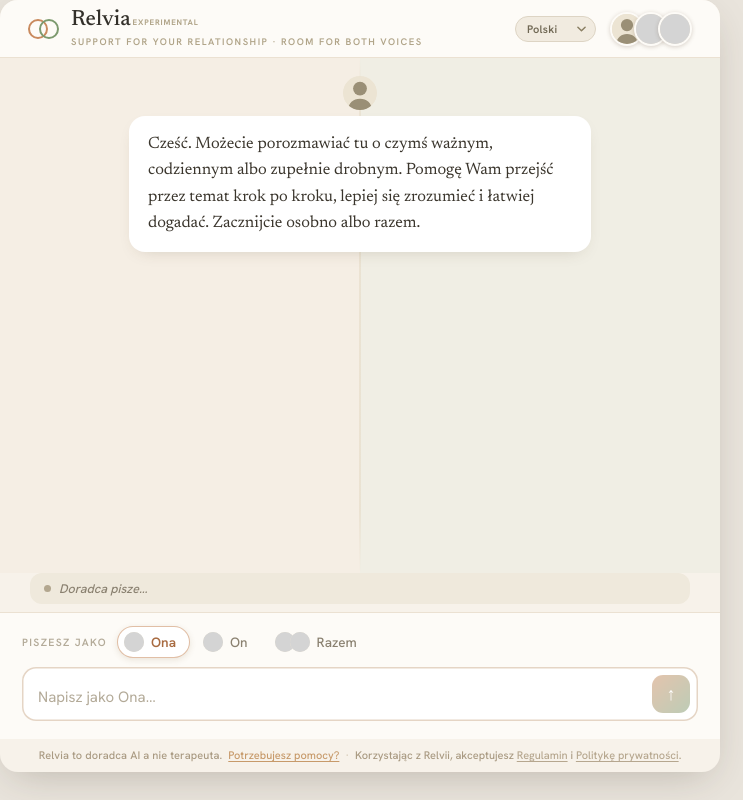
Test: spójność językowa ekranu › powitanie doradcy (syntetyczne) przechodzi na nowy język, gdy rozmowa jeszcze nie ruszyła
Select "Deutsch" in the dropdown named "Język": (556, 28) [515,16,596,42]
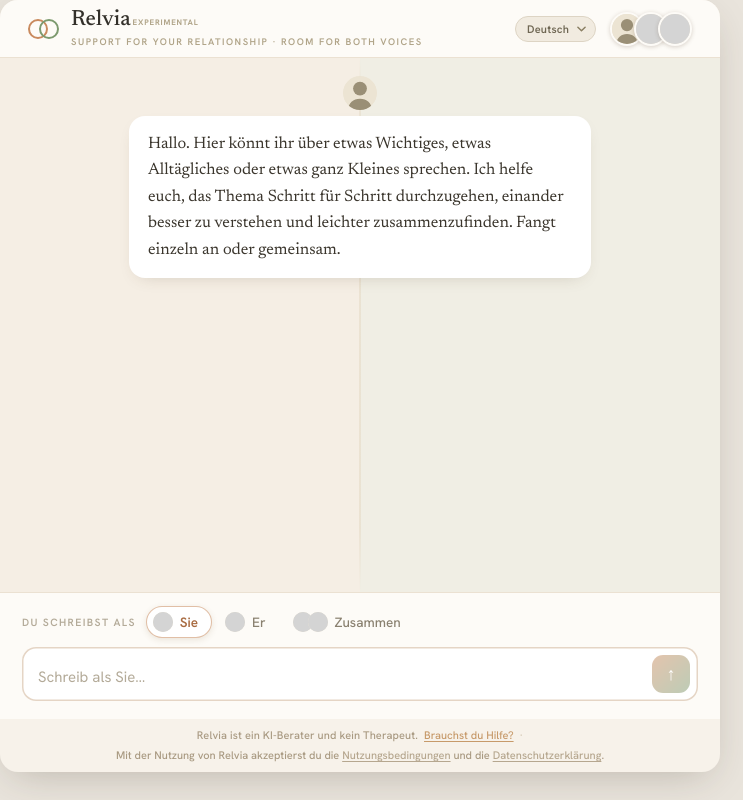
Expected: the text "Fangt einzeln an oder gemeinsam." is shown, [148,136,564,258]
Expected: the text "Zacznijcie osobno" is gone
